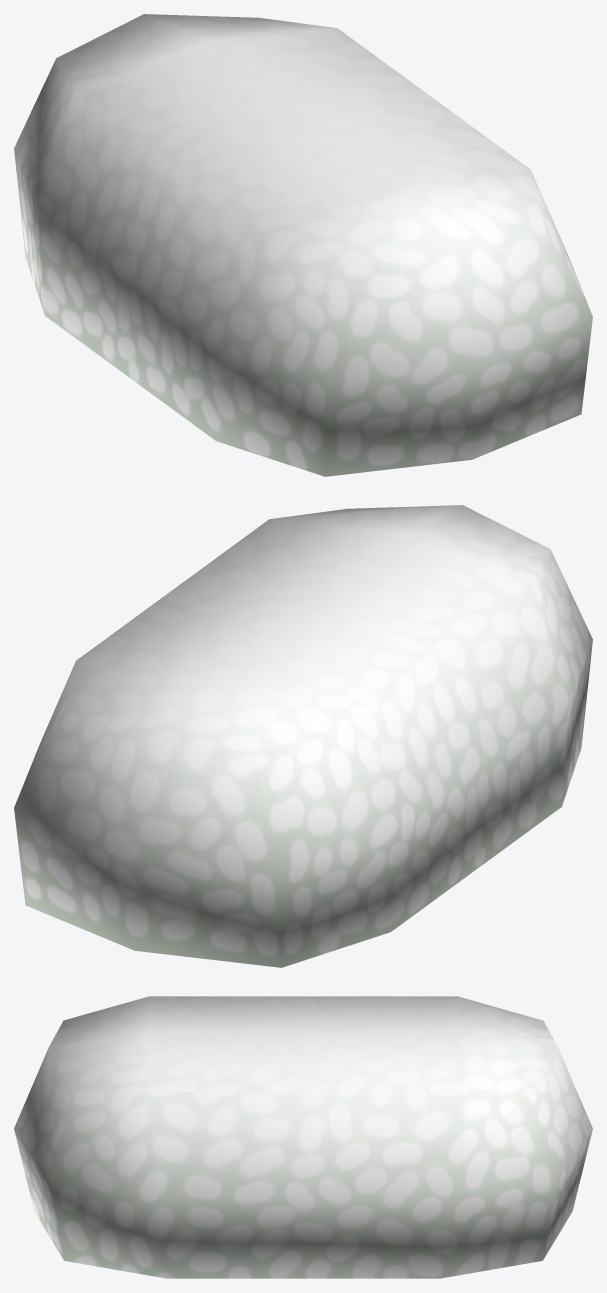
File: Sushi_Rice.fbx
3 views of the same model, one above another, from view 1: azimuth 30°, elevation 25°; view 2: azimuth 150°, elevation 25°; view 3: azimuth 270°, elevation 25° (orthographic). The views are drawn at different scales.
Visible parts, largest first — view 1: Sushi_Rice; view 2: Sushi_Rice; view 3: Sushi_Rice.
Boxes of the visible parts, bbox=[...] form: Sushi_Rice: bbox=[14, 14, 592, 476]; Sushi_Rice: bbox=[14, 505, 592, 967]; Sushi_Rice: bbox=[14, 996, 592, 1278].
Size of the model in its own units: 0.2478 by 0.1519 by 0.4462.
Materials: 1 (1 with a texture image).
